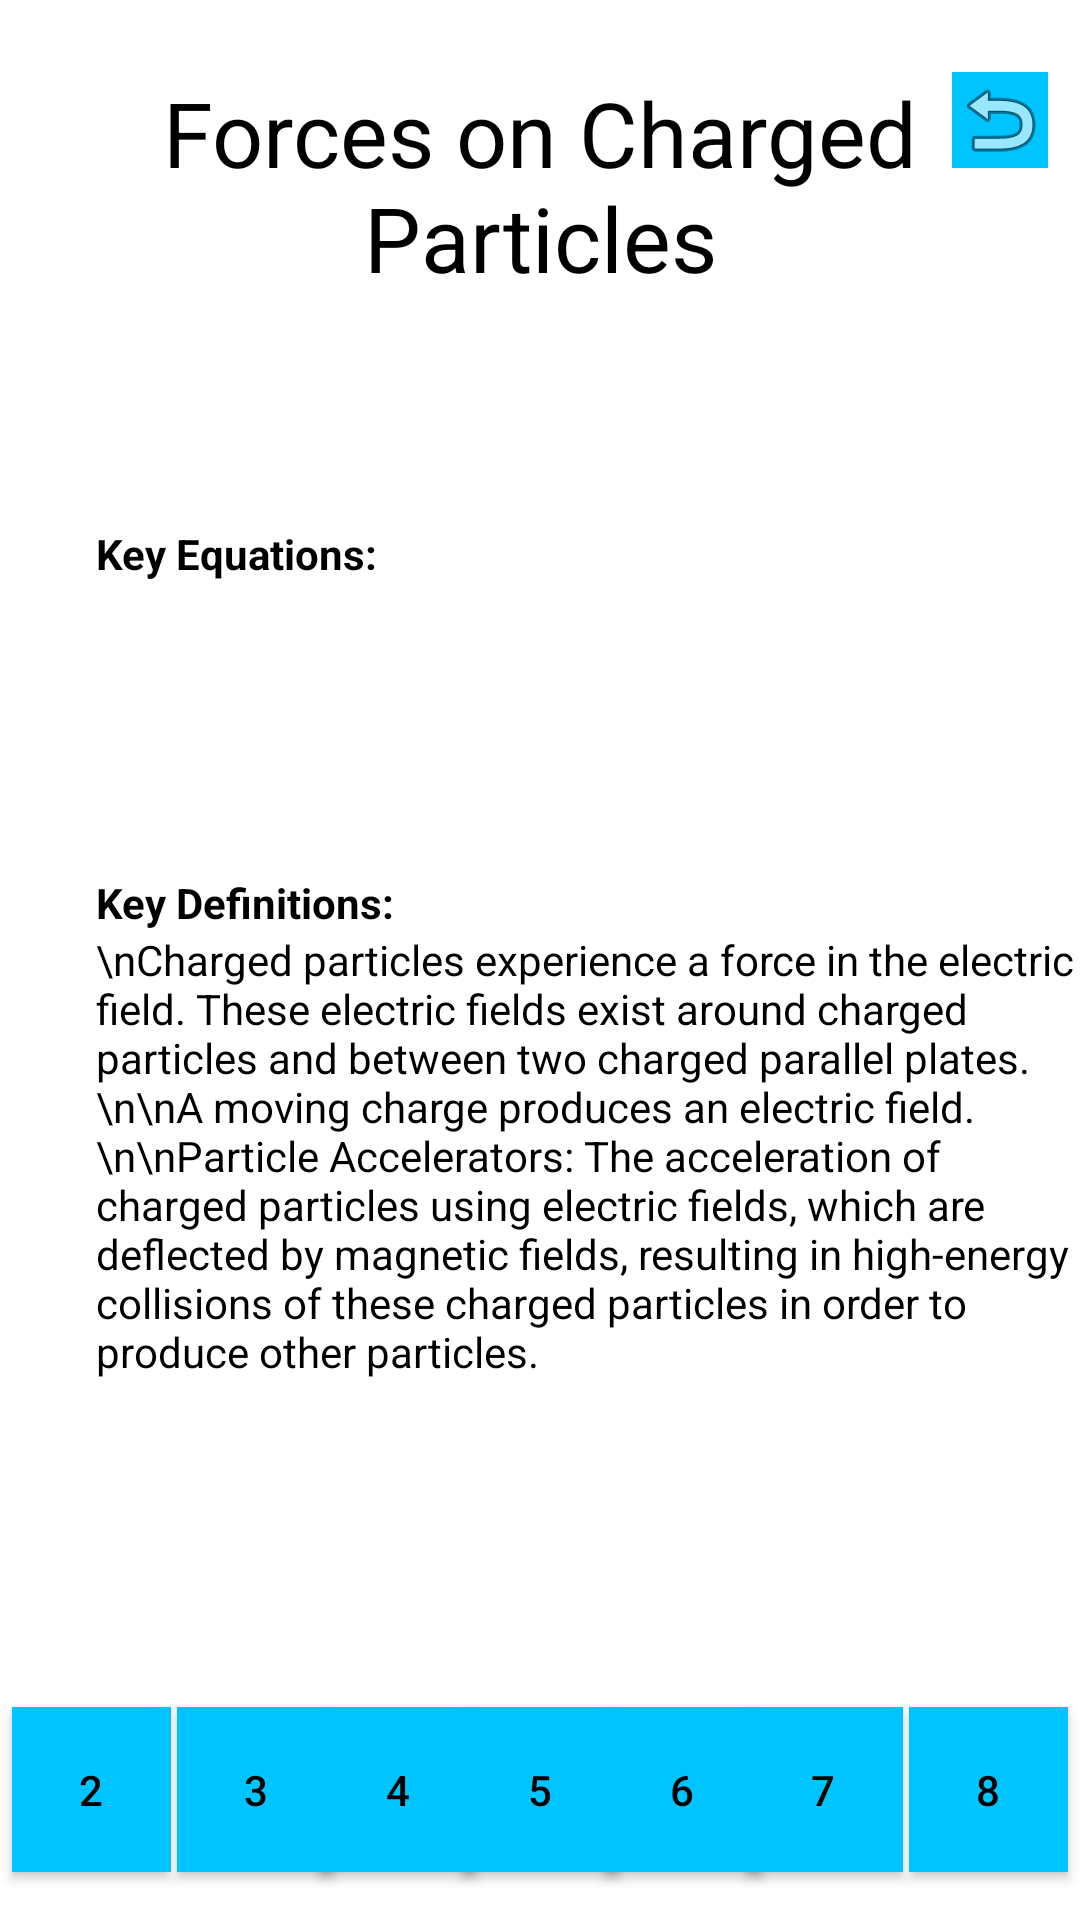

Icons on this 1080×1920 Android screen, each with its box as (x1, y1, x2, y2):
revert: (952, 72, 1048, 168)
